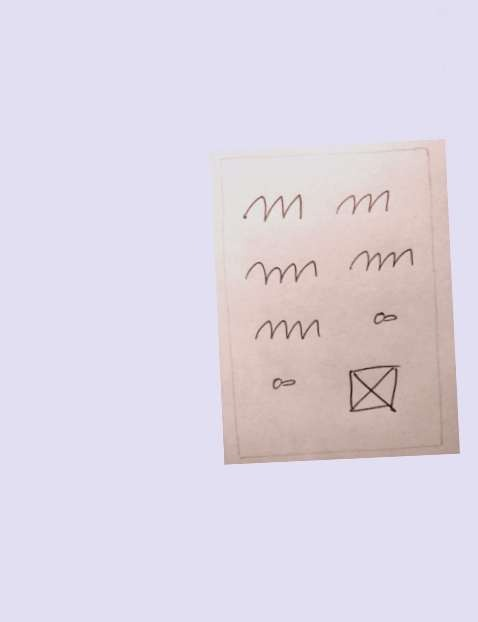image: (344, 361, 405, 419)
switch: (263, 370, 301, 395), (366, 308, 407, 331)
text: (239, 257, 326, 294), (237, 188, 313, 229), (249, 312, 329, 349), (329, 184, 393, 223), (346, 244, 417, 278)
